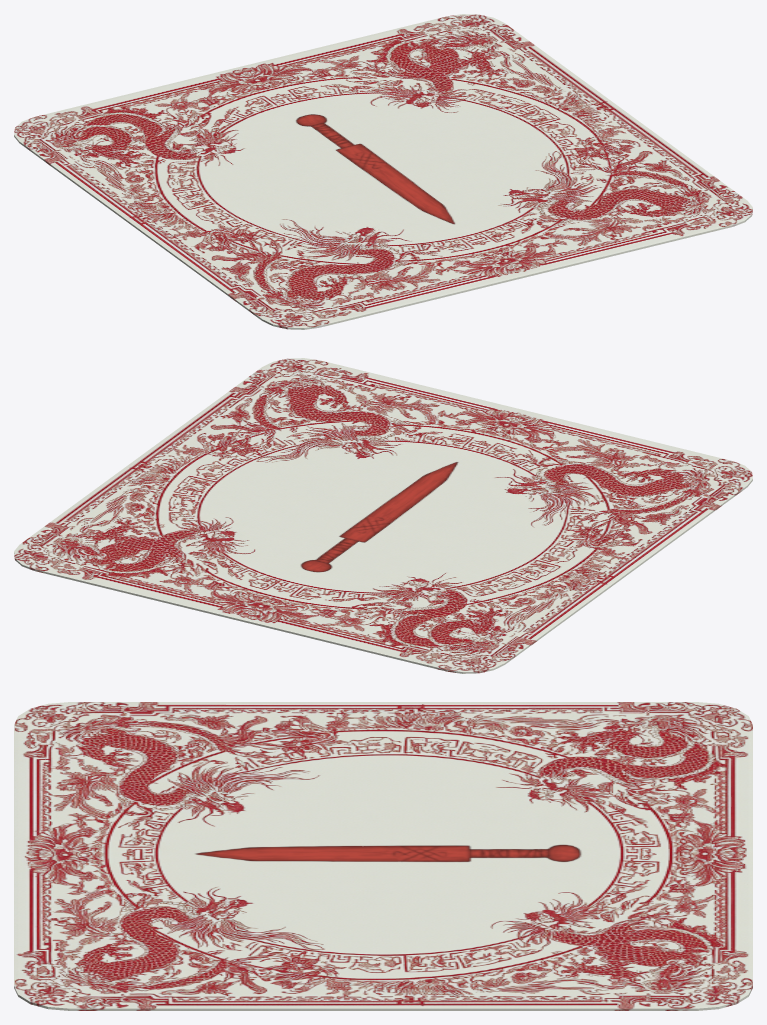
The model's file is FBX_Item.fbx.
The picture shows the model from 3 angles, top to bottom: view 1: azimuth 30°, elevation 25°; view 2: azimuth 150°, elevation 25°; view 3: azimuth 270°, elevation 25°; orthographic projection. The views are drawn at different scales.
Visible parts, largest first — view 1: Cubo.009; view 2: Cubo.009; view 3: Cubo.009.
Boxes of the visible parts, x1=… form: Cubo.009: x1=14, y1=14, x2=752, y2=329; Cubo.009: x1=14, y1=358, x2=752, y2=673; Cubo.009: x1=14, y1=702, x2=752, y2=1010.
Size of the model in its own units: 127 by 0.6113 by 129.
